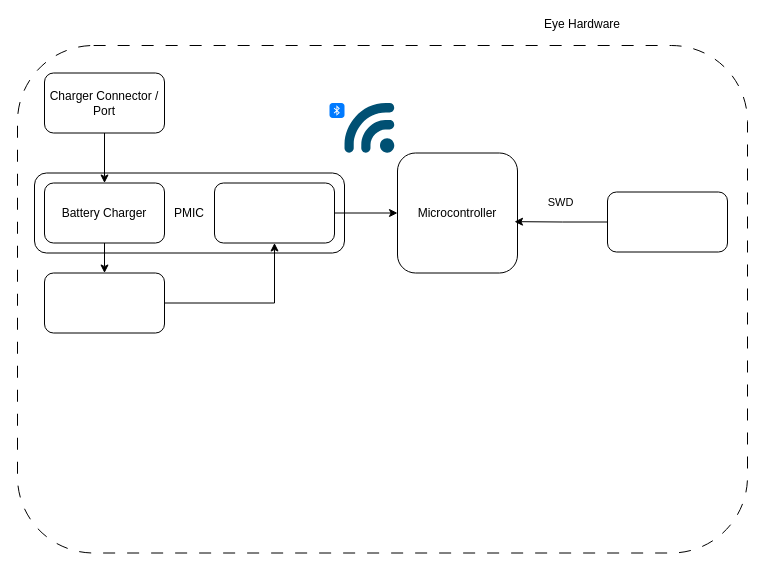
Some shapes in this 765 by 571 pixel diagram are drawn without their labels. The shapes that lost their labels are listed below. From the top down, each one's centre as x and y in pixels, then its label:
(274,212): Voltage Regulator
(667,221): Programming Connector
(104,302): Battery
